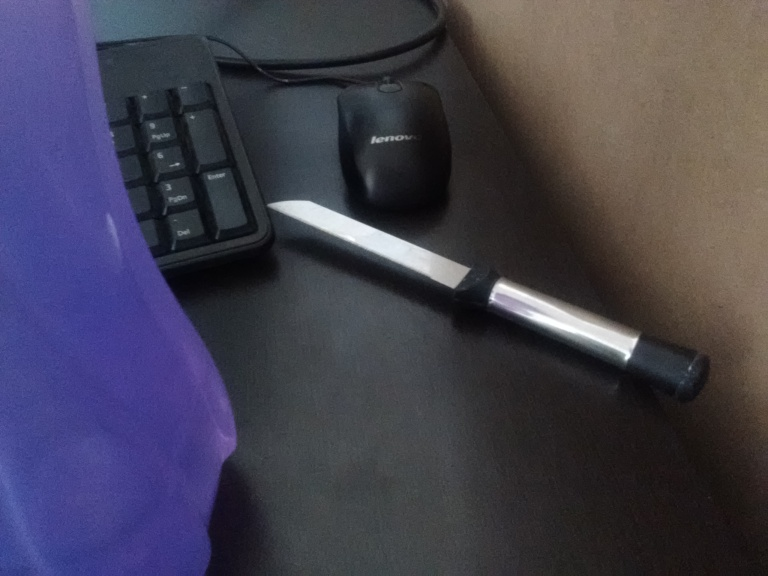knife: (263, 195, 712, 408)
